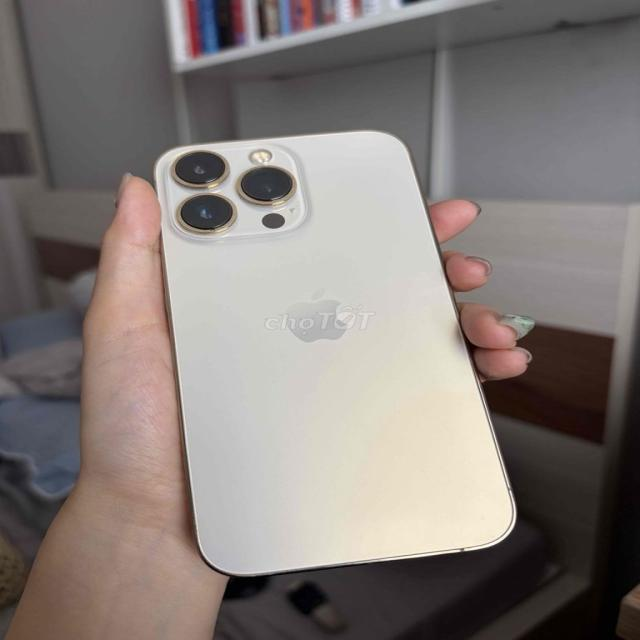gen_12_13: (152, 129, 521, 579)
